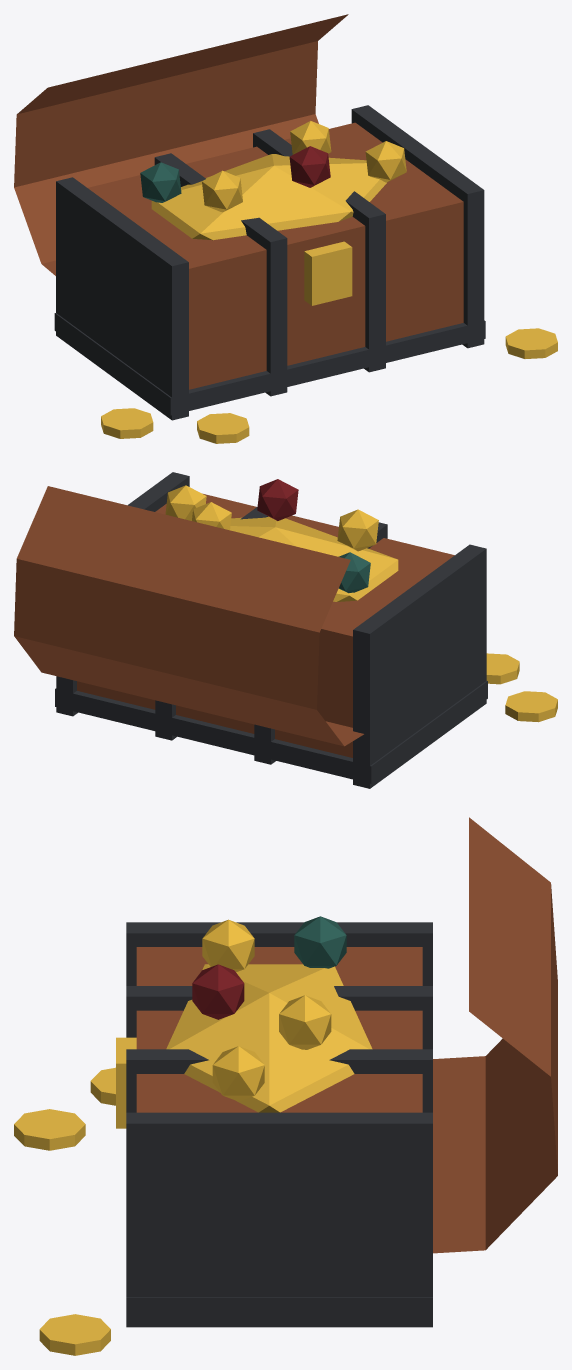
Rendered from Treasure_Chest.glb.
3 renders of one model, top to bottom at view 1: azimuth 30°, elevation 25°; view 2: azimuth 150°, elevation 25°; view 3: azimuth 270°, elevation 25°, orthographic. The views are drawn at different scales.
Parts seen in each view (by area): view 1: Treasure_Chest; view 2: Treasure_Chest; view 3: Treasure_Chest.
Part boxes in pixels (bbox=[...]): Treasure_Chest: bbox=[14, 14, 557, 443]; Treasure_Chest: bbox=[14, 472, 557, 788]; Treasure_Chest: bbox=[14, 817, 557, 1355].
Bounding box in the file's own units: 1.29 × 0.675 × 1.06.
Materials: 1 (1 with a texture image).
